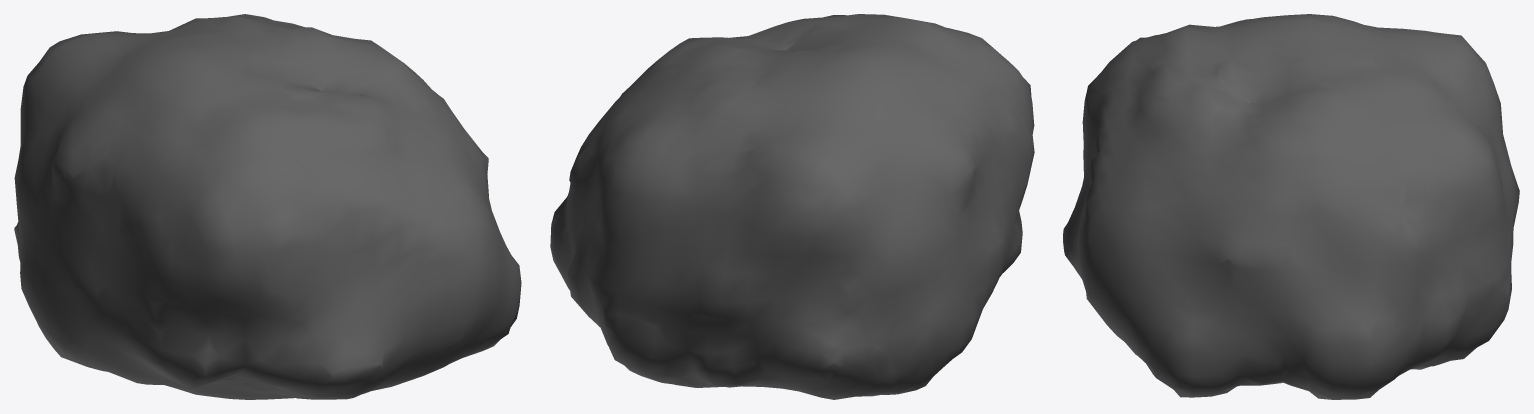
The model's file is rock.glb.
3 views of the same model, side by side, from view 1: azimuth 30°, elevation 25°; view 2: azimuth 150°, elevation 25°; view 3: azimuth 270°, elevation 25° (orthographic). The views are drawn at different scales.
Visible parts, largest first — view 1: Mball.022; view 2: Mball.022; view 3: Mball.022.
Part boxes in pixels (bbox=[...]): Mball.022: bbox=[14, 14, 521, 399]; Mball.022: bbox=[550, 14, 1034, 399]; Mball.022: bbox=[1063, 14, 1519, 399].
Bounding box in the file's own units: 8.41 × 6.5 × 8.83.
Materials: 1 (1 with a texture image).
